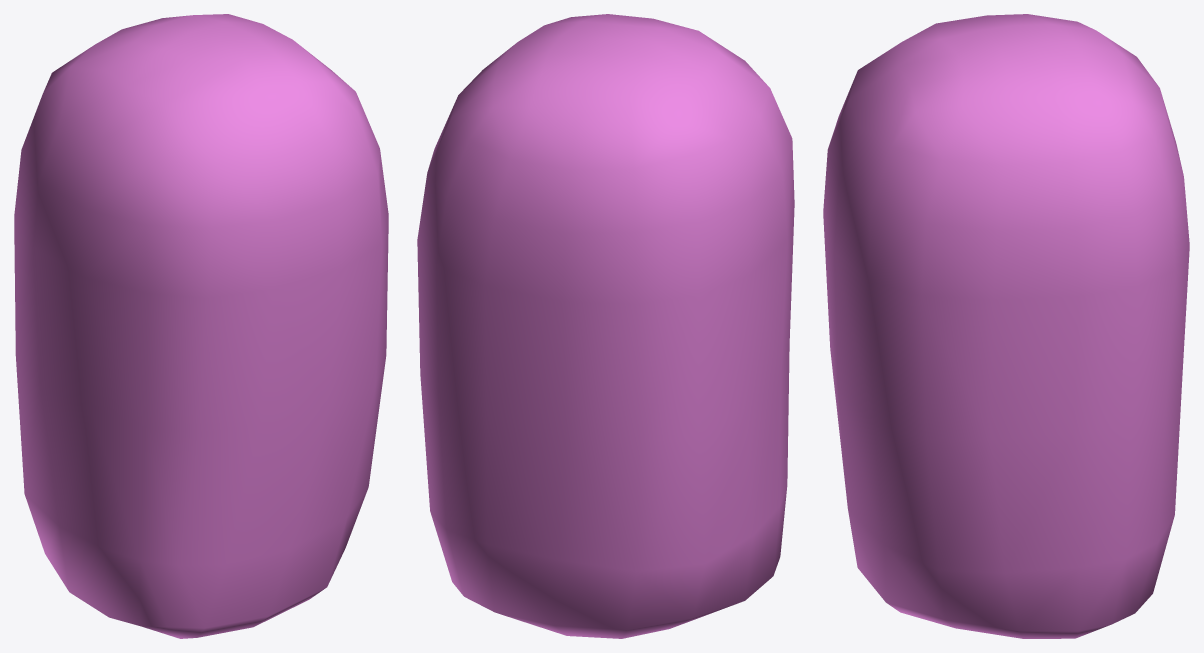
File: prop_rock_medium_02.fbx
3 views of the same model, side by side, from view 1: azimuth 30°, elevation 25°; view 2: azimuth 150°, elevation 25°; view 3: azimuth 270°, elevation 25° (orthographic).
Visible parts, largest first — view 1: RockMedium2_low; view 2: RockMedium2_low; view 3: RockMedium2_low.
Part boxes in pixels (x1,y1,x2,y2): RockMedium2_low: (14, 14, 388, 638); RockMedium2_low: (417, 14, 794, 638); RockMedium2_low: (823, 14, 1189, 638).
Bounding box in the file's own units: 4.81 × 8.18 × 4.87.
